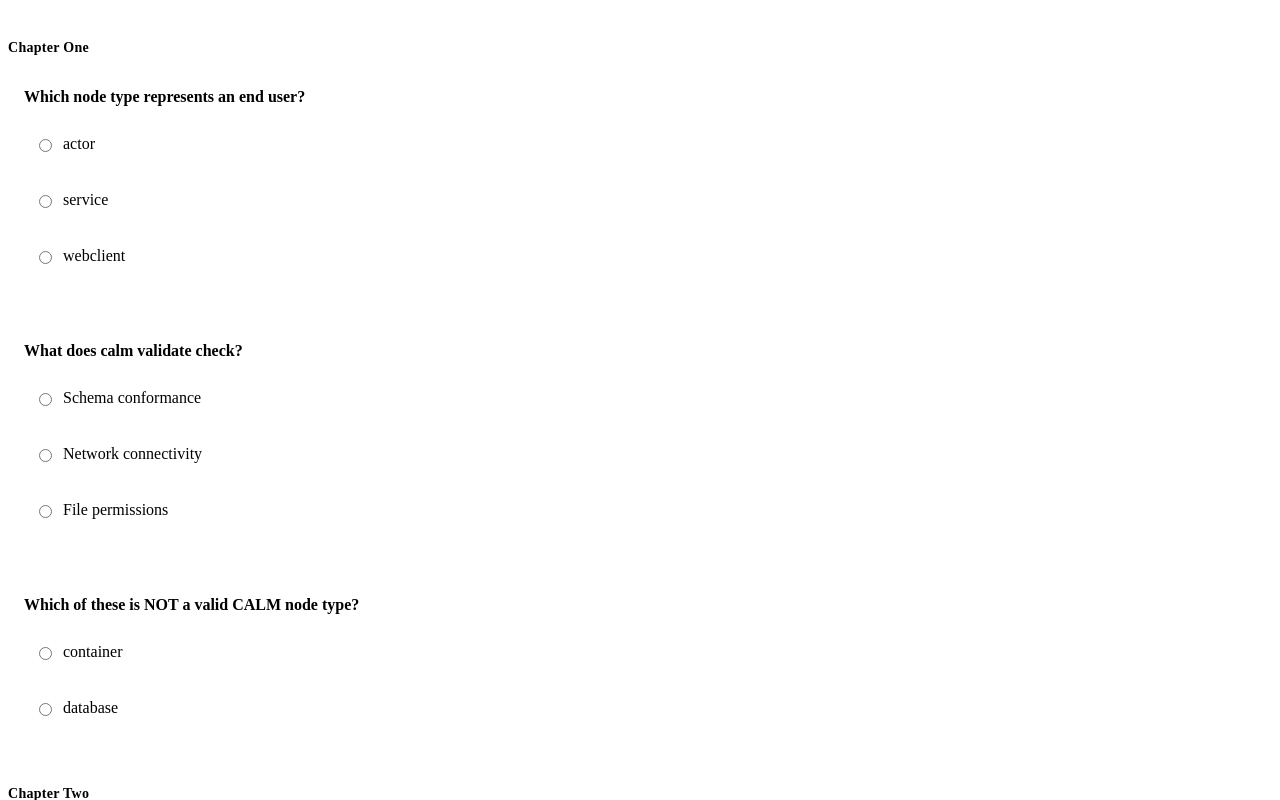
Test: Quiz › Test 2 (any answer selected): Submit button becomes enabled after selecting one radio option
This screenshot has width=1280, height=800.
Click the radio button labelled "actor".
click(46, 146)  # box top-left (39, 139), bottom-right (52, 152)
(page scrolled)
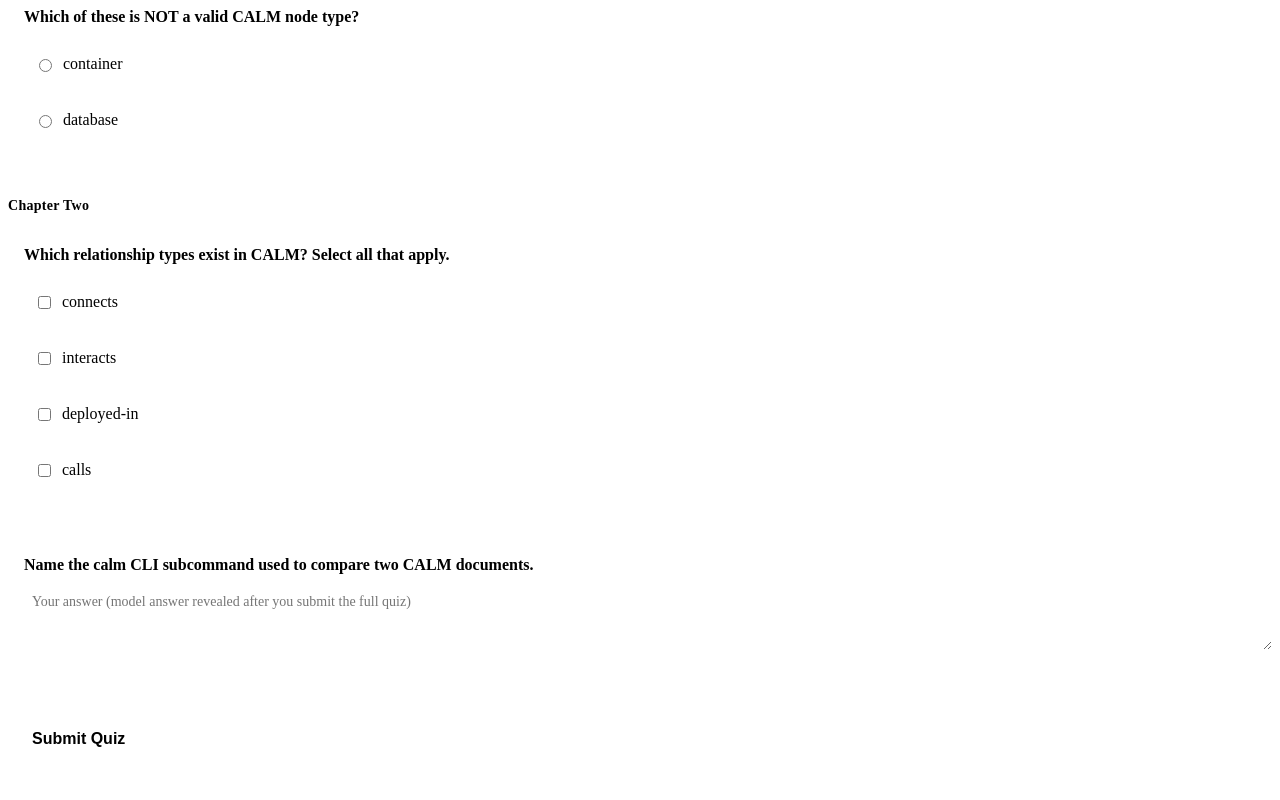
Expected: the button "Submit Quiz" is enabled, top-left (8, 718), bottom-right (149, 760)
